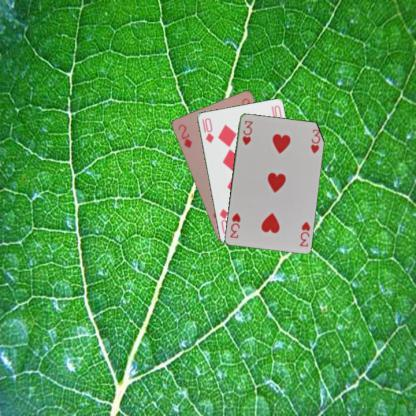10d: (199, 115, 215, 144)
2d: (174, 122, 193, 149)
3h: (239, 118, 254, 146), (297, 219, 311, 248)
